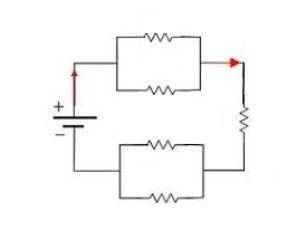resistor: (230, 90, 260, 148), (138, 130, 187, 165), (135, 184, 187, 214), (140, 71, 185, 101), (135, 20, 176, 49)
